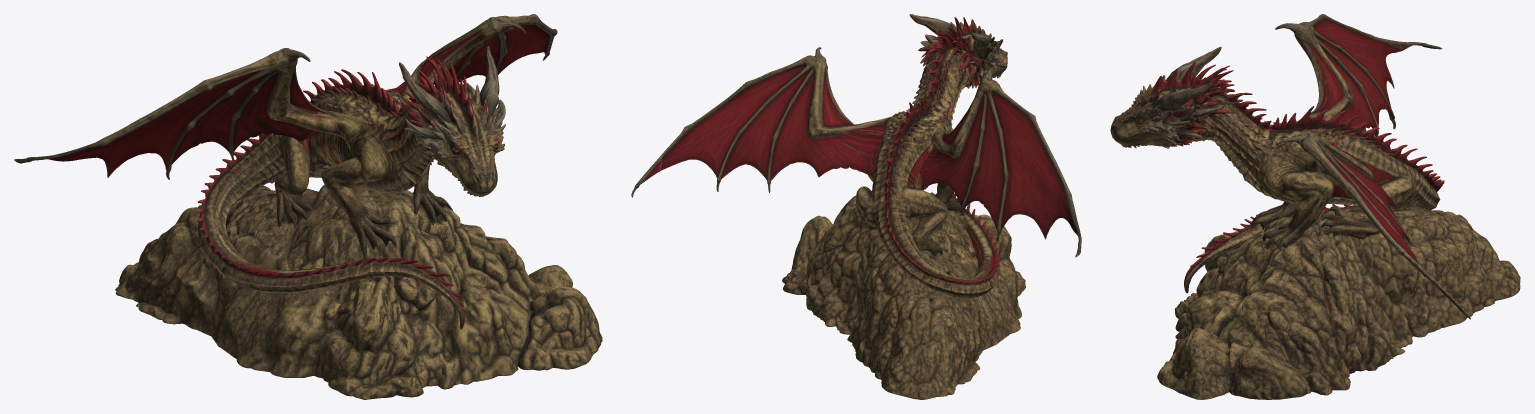
File: dragon.glb
3 views of the same model, side by side, from view 1: azimuth 30°, elevation 25°; view 2: azimuth 150°, elevation 25°; view 3: azimuth 270°, elevation 25° (orthographic). The views are drawn at different scales.
Parts seen in each view (by area): view 1: Mesh_0; view 2: Mesh_0; view 3: Mesh_0.
Part boxes in pixels (bbox=[...]): Mesh_0: bbox=[14, 14, 602, 399]; Mesh_0: bbox=[631, 14, 1081, 399]; Mesh_0: bbox=[1110, 14, 1520, 399].
Size of the model in its own units: 1.9 by 1.04 by 1.42.
Materials: 1 (1 with a texture image).
